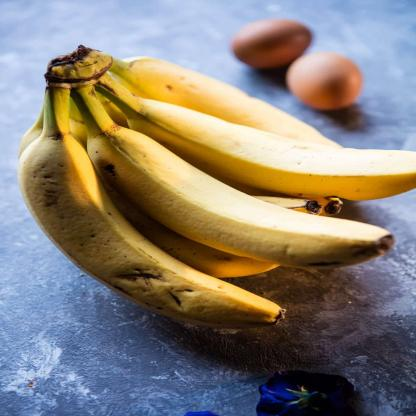banana: (9, 132, 290, 350), (66, 121, 400, 277), (89, 48, 359, 183), (105, 92, 416, 205)
